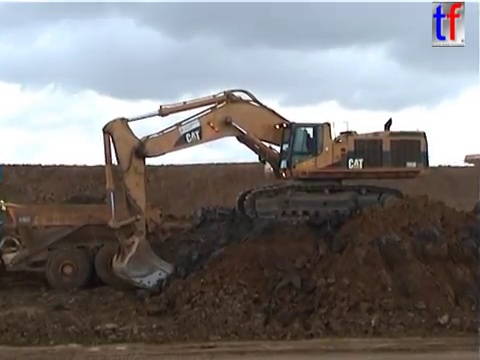excavator: (99, 86, 432, 291)
truck: (1, 200, 164, 291), (462, 152, 480, 171)
worker: (1, 195, 8, 223)
